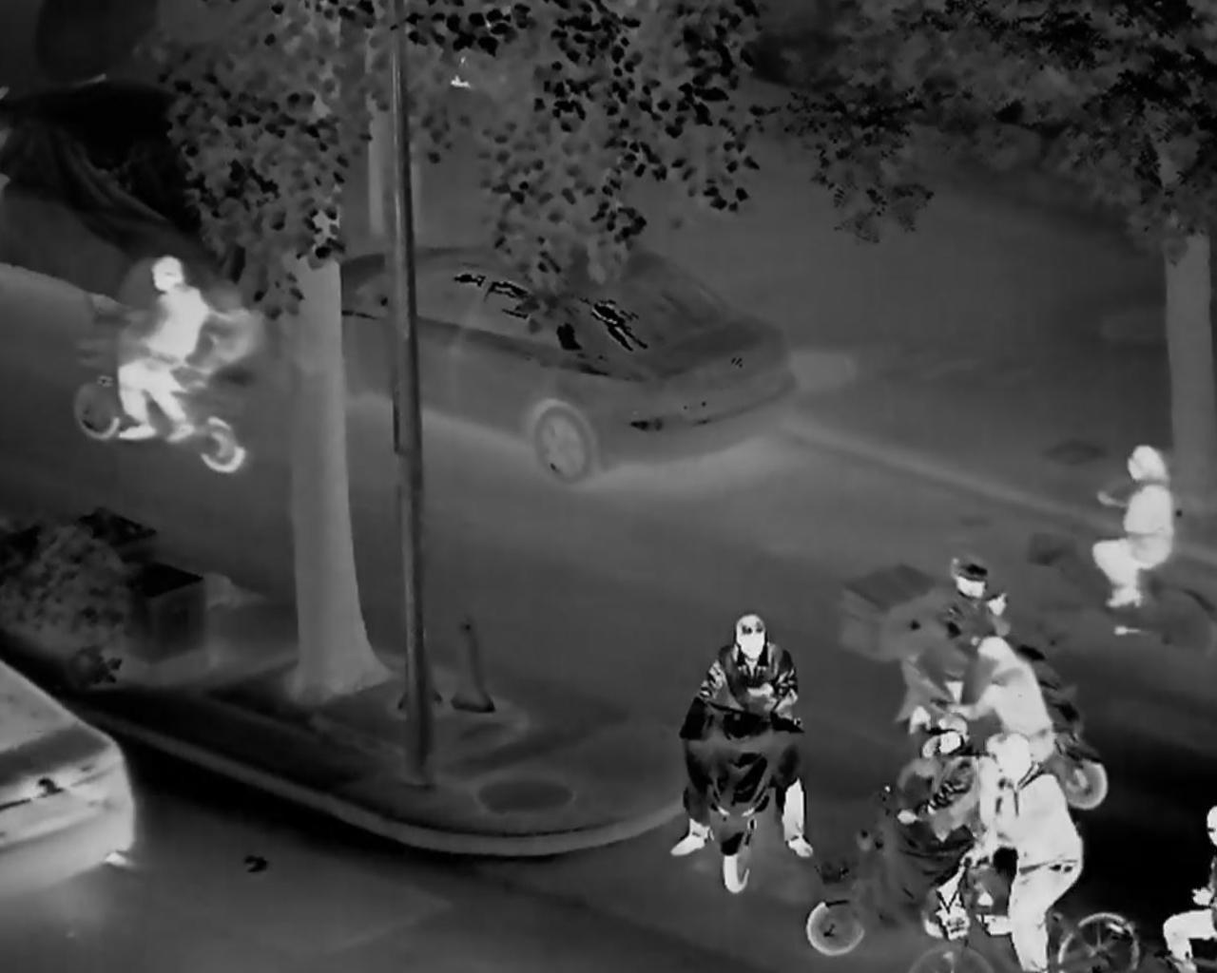person: (675, 609, 813, 868), (962, 751, 1101, 973), (918, 634, 1064, 782), (105, 257, 210, 442), (1087, 438, 1179, 624), (929, 553, 1012, 731)
